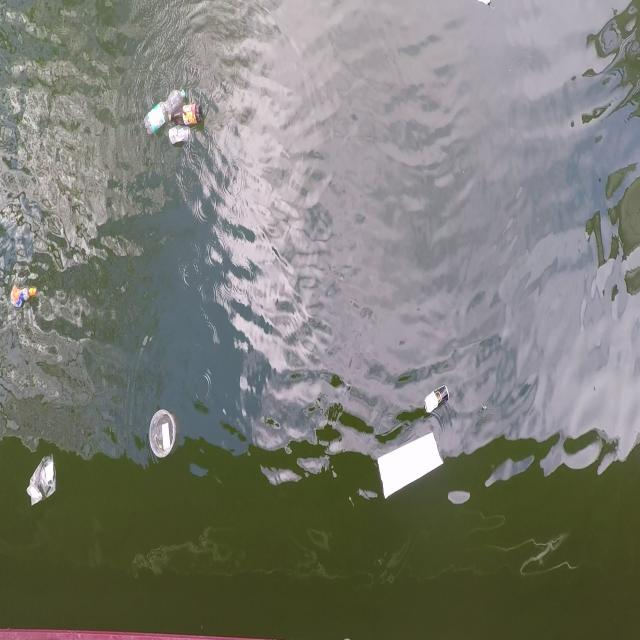Autre plastique: (372, 428, 447, 504), (148, 406, 181, 465)
Bouteille plastique: (136, 75, 196, 143), (164, 91, 212, 126), (8, 280, 42, 312)
Non plastique: (422, 384, 452, 419), (166, 125, 195, 149)
Sac plastique: (25, 454, 61, 513)
